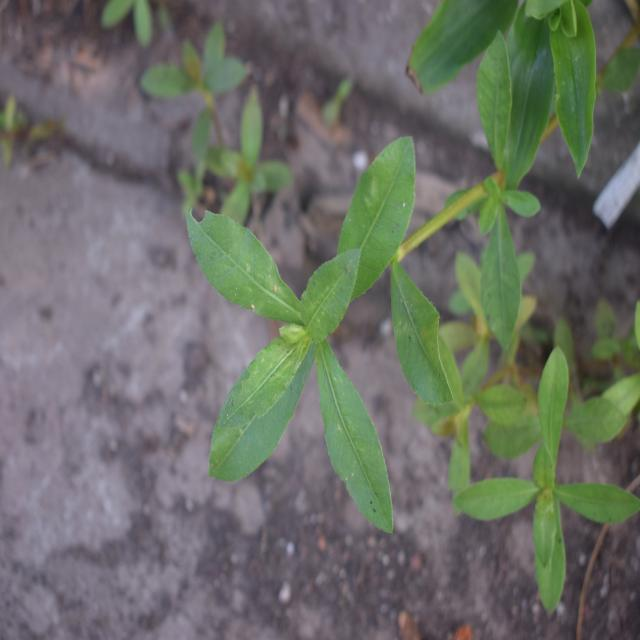Alligatorweed: (194, 137, 439, 545)
